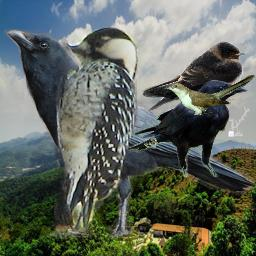Crow: (3, 29, 255, 241), (126, 80, 249, 177)
Cuckoo: (164, 74, 255, 115)
Swallow: (142, 41, 245, 112)
Woodpecker: (54, 26, 138, 233)
